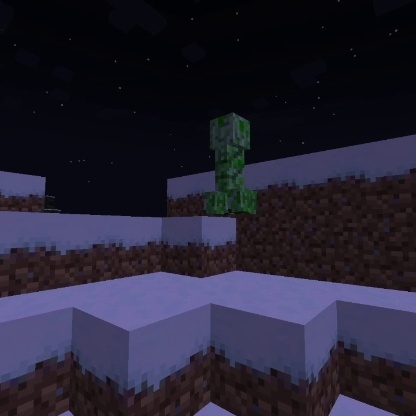creeper: (201, 111, 259, 218)
